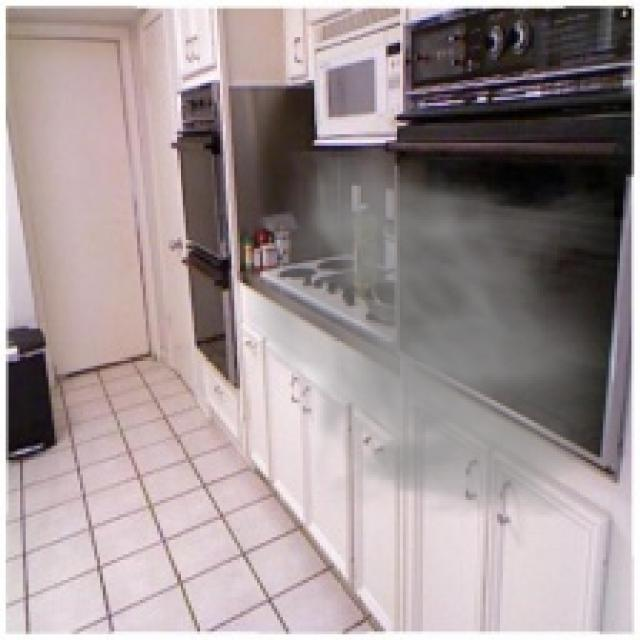smoke: (232, 152, 614, 517)
